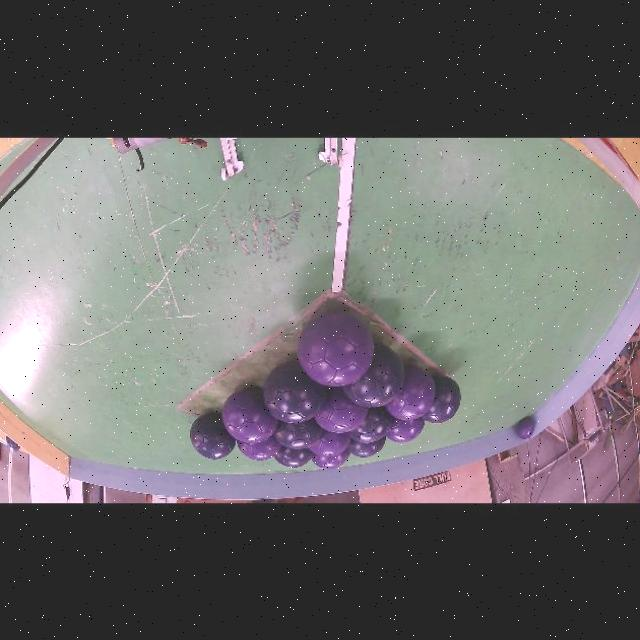B: (343, 345, 405, 408), (263, 363, 326, 424), (190, 414, 236, 460), (423, 377, 461, 424), (348, 408, 392, 444), (274, 420, 323, 451), (274, 447, 312, 469), (347, 437, 386, 458)
P: (297, 312, 373, 387), (222, 389, 278, 446), (385, 367, 436, 422), (315, 389, 368, 434), (236, 436, 282, 461), (309, 430, 350, 458), (386, 418, 425, 444), (311, 450, 350, 470), (514, 418, 536, 439)
